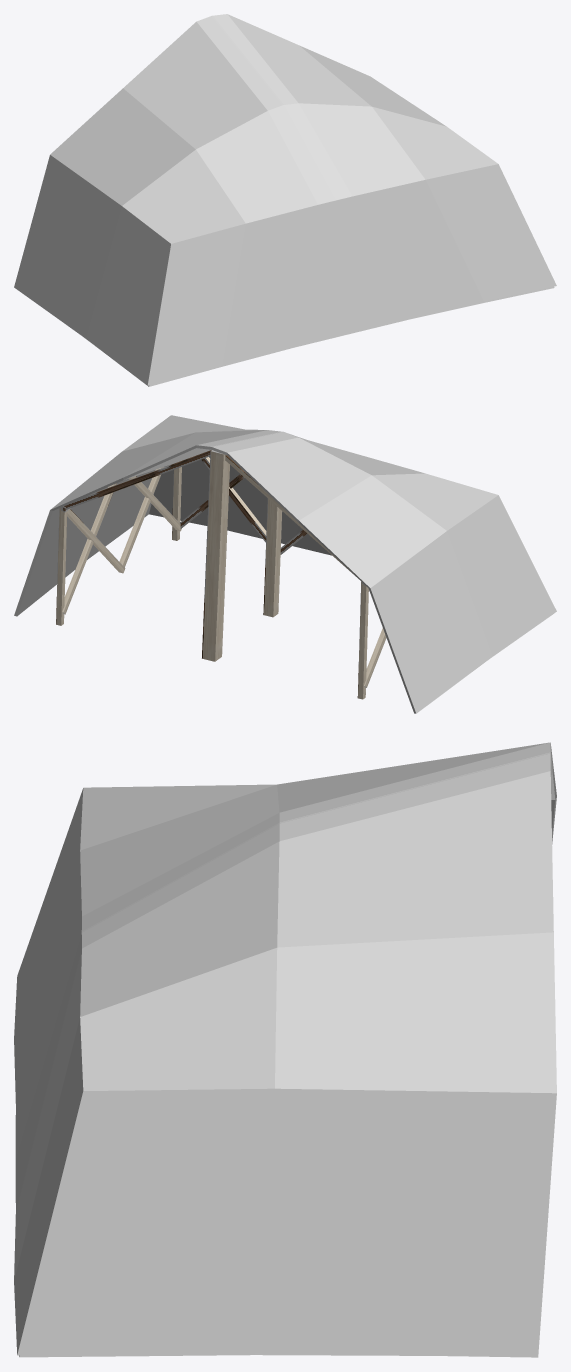
The model's file is LargeTent.fbx.
3 views of the same model, one above another, from view 1: azimuth 30°, elevation 25°; view 2: azimuth 150°, elevation 25°; view 3: azimuth 270°, elevation 25° (orthographic). The views are drawn at different scales.
Parts seen in each view (by area): view 1: Cube.005; view 2: Cube.005, SupportStand.001; view 3: Cube.005.
Part boxes in pixels (bbox=[...]): Cube.005: bbox=[14, 14, 556, 386]; Cube.005: bbox=[14, 415, 556, 713]; SupportStand.001: bbox=[56, 450, 386, 699]; Cube.005: bbox=[14, 742, 556, 1357].
Size of the model in its own units: 813 by 419 by 492.
